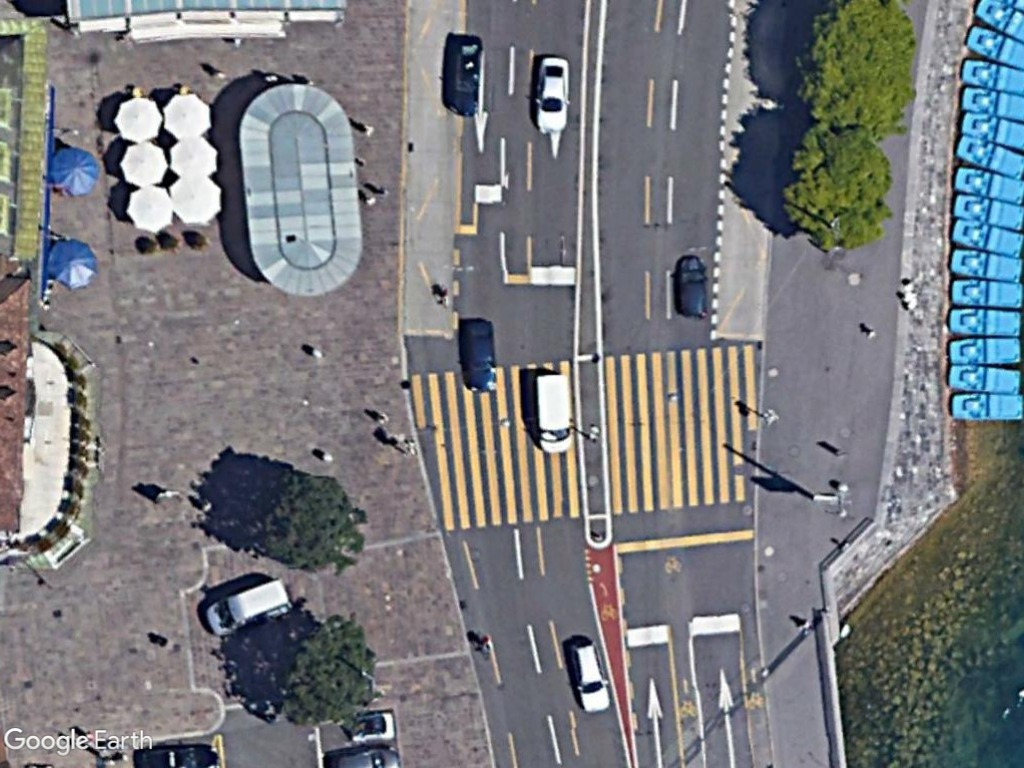car: (566, 638, 614, 716), (532, 53, 570, 136), (462, 318, 499, 395)
van: (200, 577, 293, 641), (531, 371, 575, 457)
